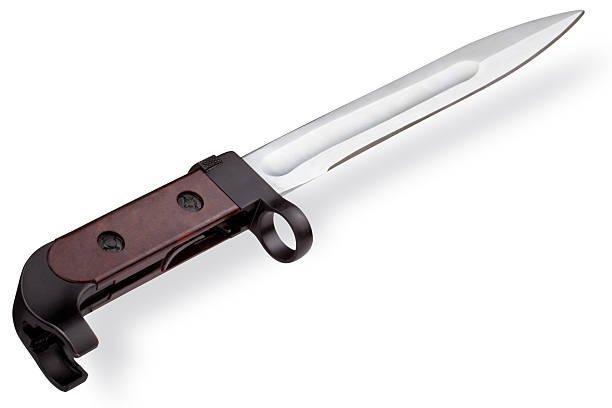knife: (10, 6, 587, 394)
